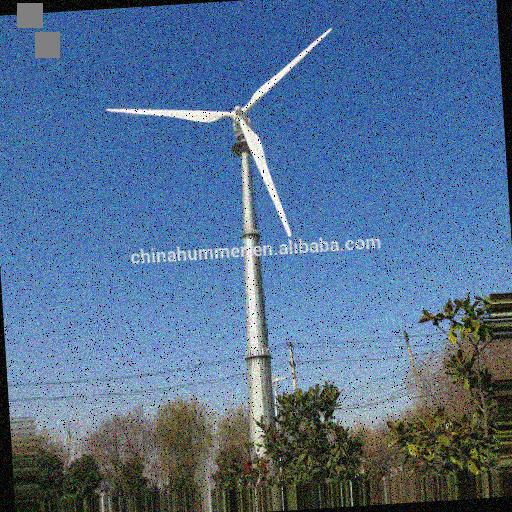wind turbine: (104, 26, 335, 470)
